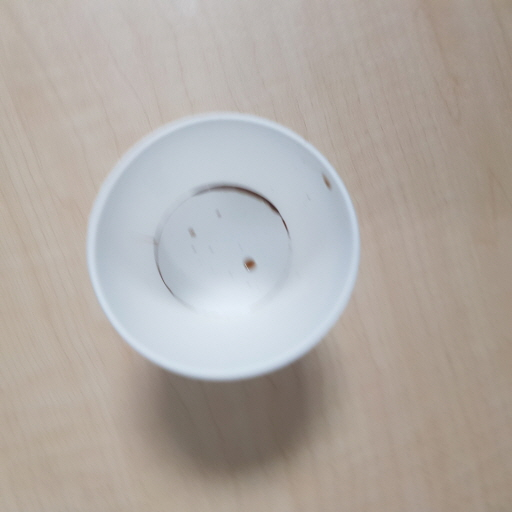Paper_1: (88, 115, 362, 383)
